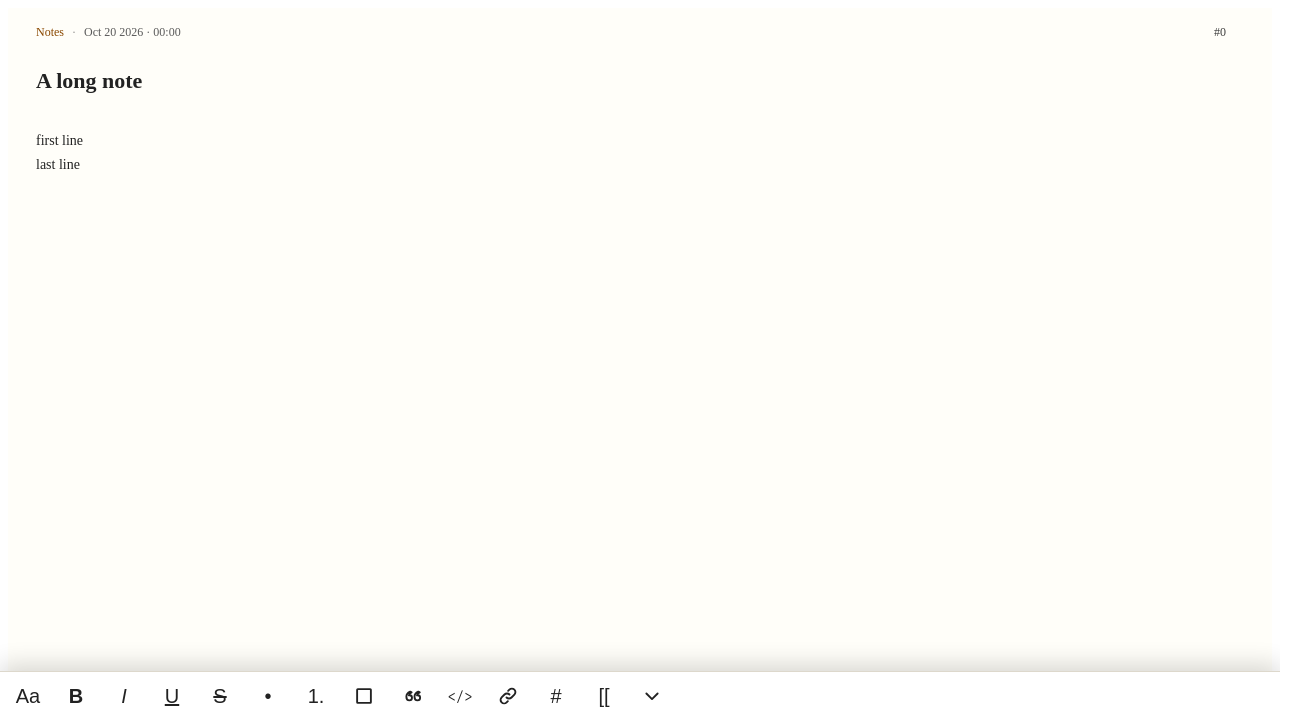
Test: NoteEditor format bar — phone › [ [ near the bottom opens the picker above the caret and above the bar
The width and height of the screenshot is (1292, 720).
Click the button "[ [" at (604, 696), box [580,672,628,719]
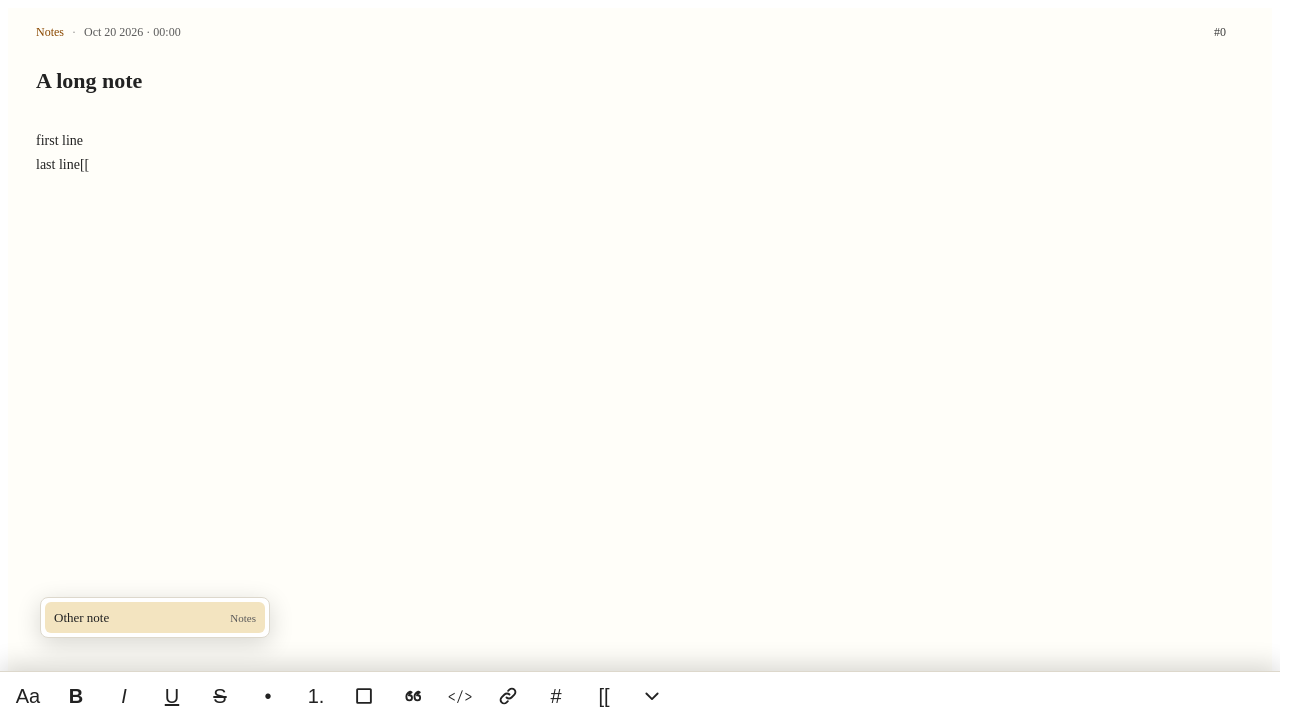
Check: the list with class "link-picker" is shown, box [40,596,270,638]
